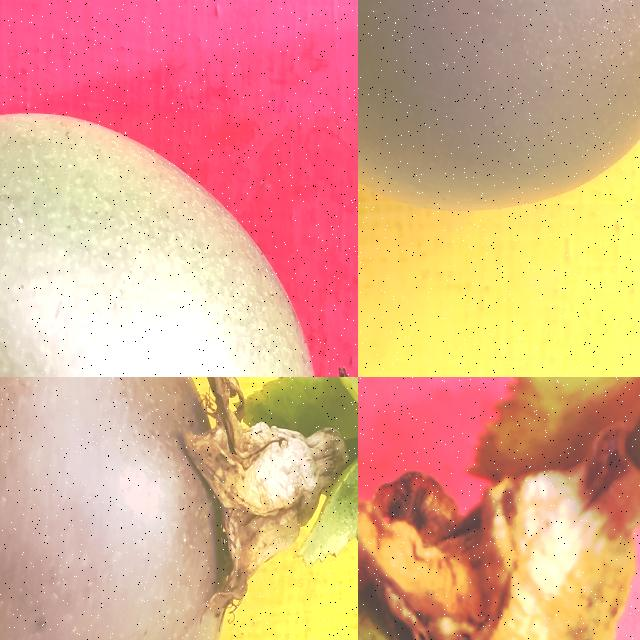Estado-2: (358, 377, 640, 640)
Estado-3: (0, 113, 312, 377)
